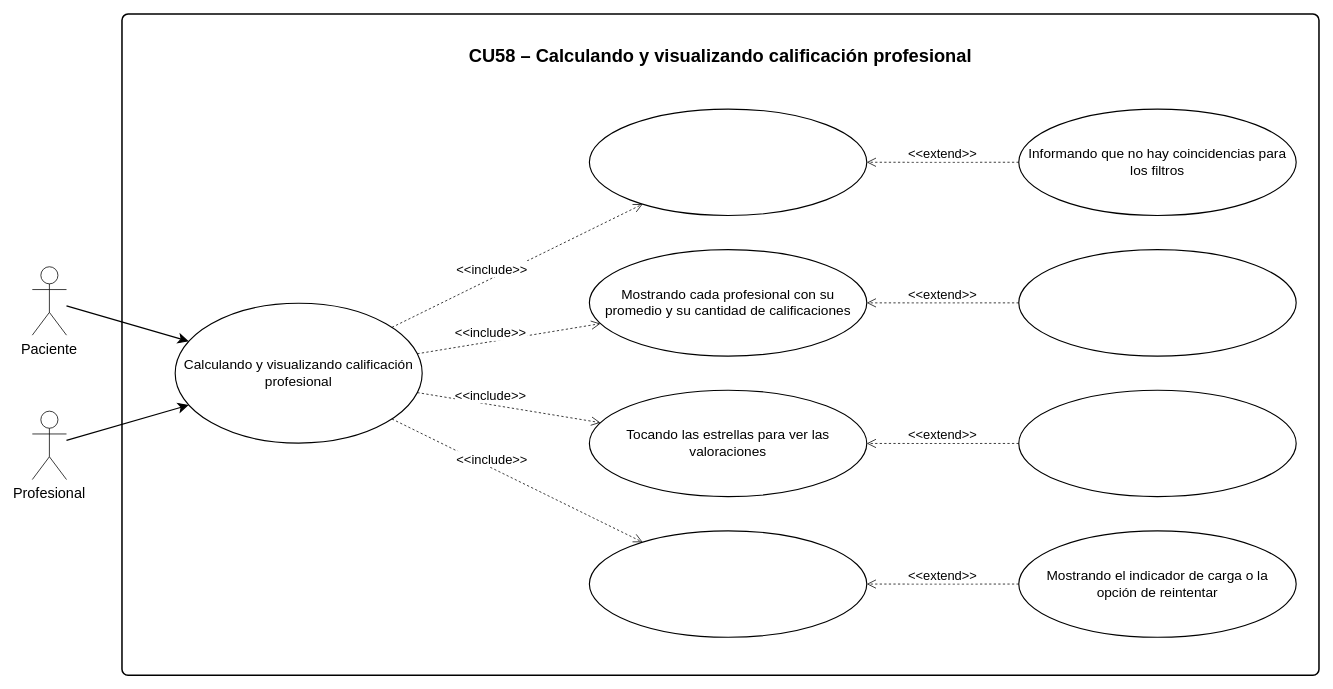
Some shapes in this 1333 by 689 pixel diagram are drawn without their labels. The centre of each missing label's shape, as x and y in pixels:
Buscando horas o abriendo el perfil de un profesional: pixel 727 162
Cancelando la carga al salir de la pantalla: pixel 1157 443
Mostrando como perfil nuevo al profesional sin calificaciones: pixel 1157 302
Mostrando el promedio y los testimonios publicados con su autor: pixel 727 583
